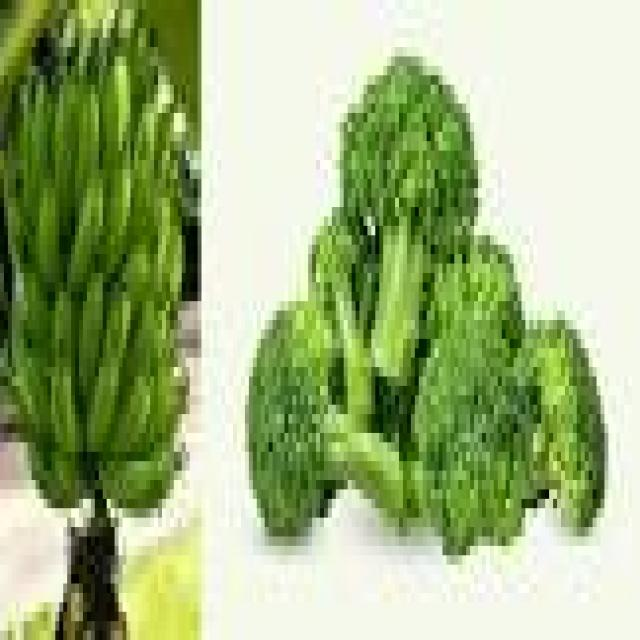banana: (99, 443, 181, 517), (52, 76, 79, 225), (68, 179, 102, 291), (28, 443, 86, 508), (12, 349, 51, 442), (107, 377, 150, 461), (123, 302, 165, 385), (80, 273, 106, 404), (151, 368, 189, 451), (36, 179, 63, 291), (103, 57, 130, 169), (103, 160, 130, 272), (87, 358, 118, 451), (0, 170, 31, 263), (20, 264, 51, 357), (52, 358, 82, 451), (28, 76, 51, 188), (76, 85, 98, 197), (103, 292, 130, 367), (155, 198, 173, 301), (166, 217, 185, 310), (123, 245, 150, 310), (52, 292, 75, 367)
